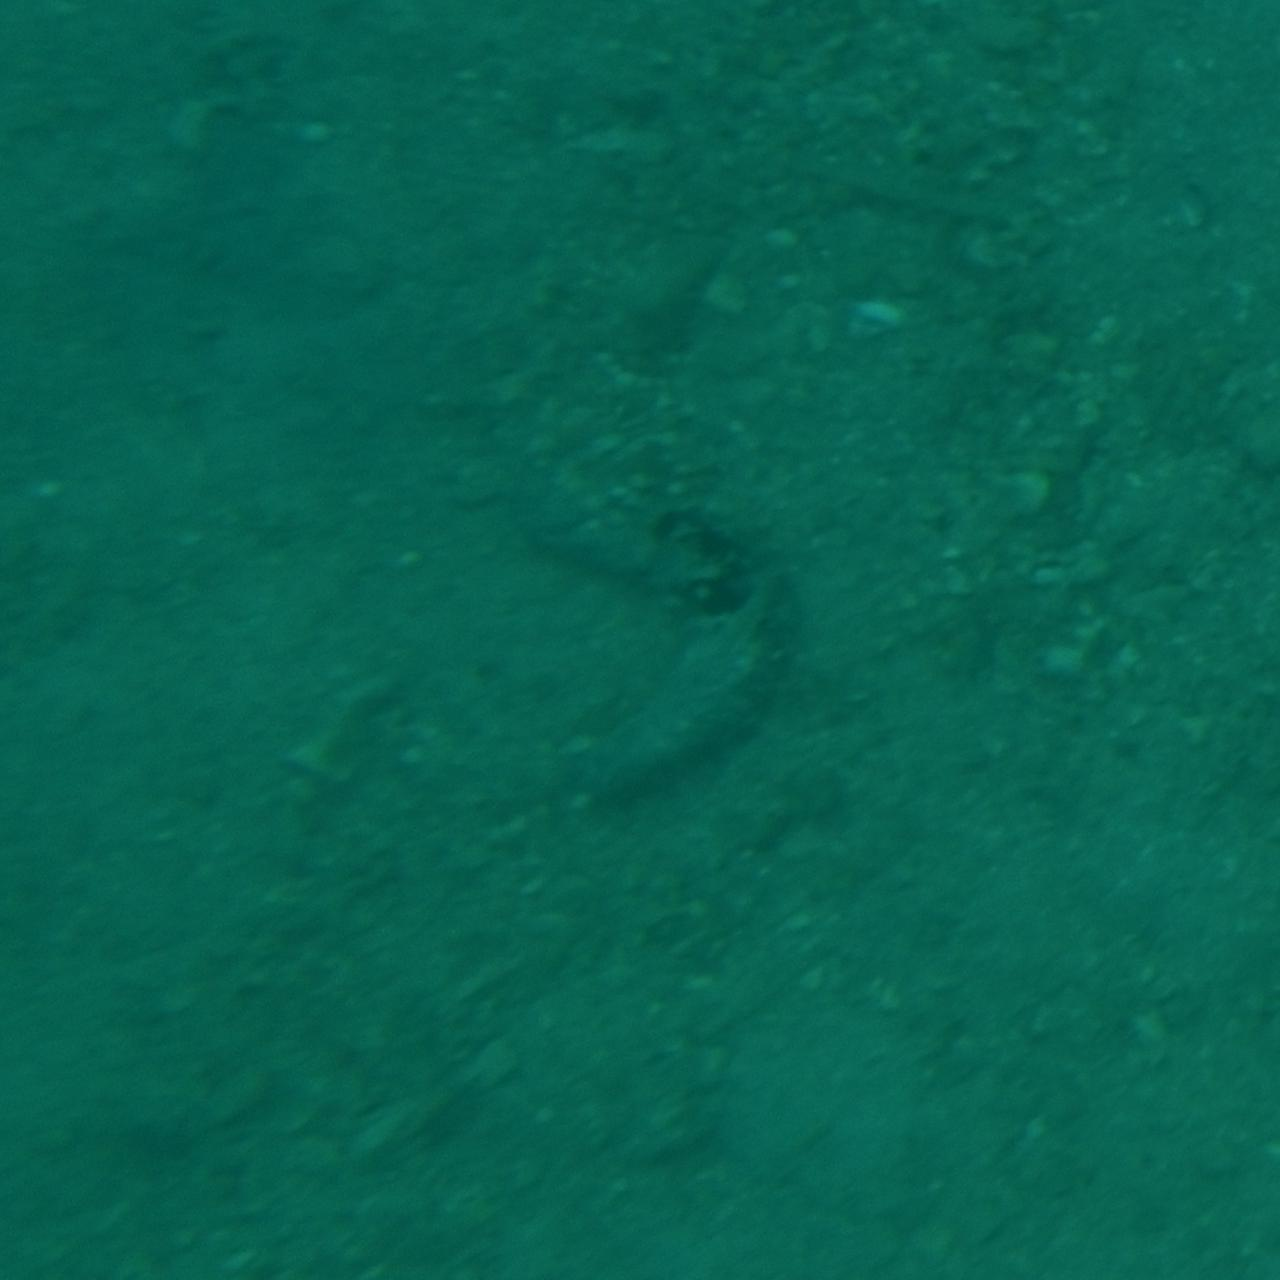Holothuria tubulosa: (503, 455, 777, 825)
